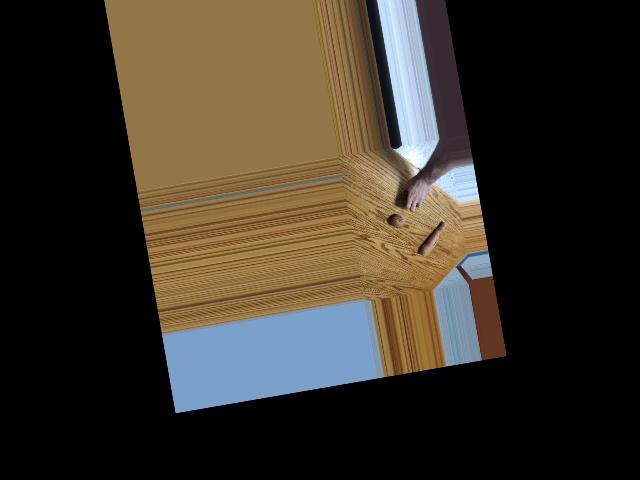onion: (397, 187, 415, 208)
